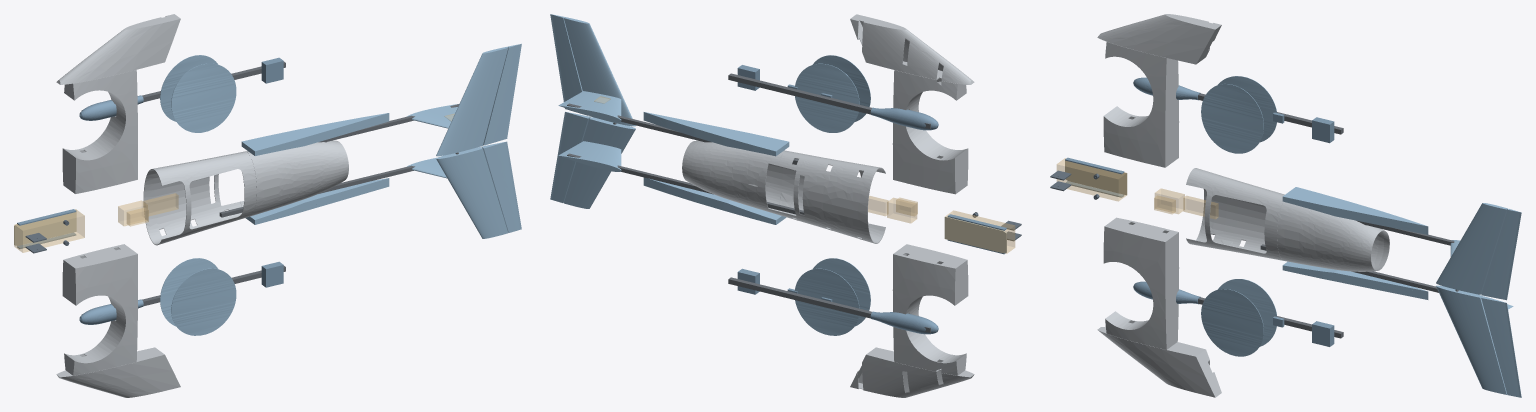
The model's file is v19r_recommended.glb.
The picture shows the model from 3 angles, left to right: view 1: azimuth 30°, elevation 25°; view 2: azimuth 150°, elevation 25°; view 3: azimuth 330°, elevation 25°; orthographic projection.
Visible parts, largest first — view 1: F3_hollow_body, WLB_hollow_wing, WRB_hollow_wing, F4_hollow_body, WRE1_falcon_wing, NEW_front_well_cap_upper_R, NEW_tail_stab_R, NEW_tail_stab_L, NEW_front_well_cap_upper_L, WLE1_falcon_wing, NEW_F5_root_fairing_R, NEW_tail_elevator_L (+16 smaller); view 2: WLB_hollow_wing, F3_hollow_body, F4_hollow_body, WRB_hollow_wing, WRE1_falcon_wing, WLE1_falcon_wing, NEW_front_well_cap_lower_R, NEW_front_well_cap_lower_L, NEW_tail_stab_R, NEW_tail_stab_L, NEW_F5_root_fairing_R, NEW_F5_root_fairing_L (+15 smaller); view 3: WLB_hollow_wing, F3_hollow_body, WRB_hollow_wing, F4_hollow_body, WRE1_falcon_wing, NEW_front_well_cap_upper_R, NEW_tail_stab_R, WLE1_falcon_wing, NEW_tail_stab_L, NEW_front_well_cap_upper_L, NEW_F5_root_fairing_R, NEW_tail_elevator_L (+15 smaller).
Part boxes in pixels (<box>): F3_hollow_body: <box>143,151,256,245</box>; WLB_hollow_wing: <box>62,244,137,375</box>; WRB_hollow_wing: <box>62,70,137,193</box>; F4_hollow_body: <box>240,140,348,215</box>; WRE1_falcon_wing: <box>56,14,180,84</box>; NEW_front_well_cap_upper_R: <box>171,63,236,132</box>; NEW_tail_stab_R: <box>436,47,508,156</box>; NEW_tail_stab_L: <box>436,147,507,238</box>; NEW_front_well_cap_upper_L: <box>171,268,236,335</box>; WLE1_falcon_wing: <box>56,347,180,397</box>; NEW_F5_root_fairing_R: <box>241,113,389,155</box>; NEW_tail_elevator_L: <box>481,141,521,232</box>; WLB_hollow_wing: <box>892,244,968,375</box>; F3_hollow_body: <box>778,151,885,243</box>; F4_hollow_body: <box>682,140,794,215</box>; WRB_hollow_wing: <box>892,70,968,194</box>; WRE1_falcon_wing: <box>850,14,974,84</box>; WLE1_falcon_wing: <box>850,347,974,397</box>; NEW_front_well_cap_lower_R: <box>795,63,859,132</box>; NEW_front_well_cap_lower_L: <box>794,268,859,335</box>; NEW_tail_stab_R: <box>564,17,635,126</box>; NEW_tail_stab_L: <box>564,117,635,208</box>; NEW_F5_root_fairing_R: <box>643,112,789,156</box>; NEW_F5_root_fairing_L: <box>643,177,786,224</box>; WLB_hollow_wing: <box>1103,217,1179,349</box>; F3_hollow_body: <box>1186,168,1284,260</box>; WRB_hollow_wing: <box>1103,42,1179,167</box>; F4_hollow_body: <box>1277,201,1389,271</box>; WRE1_falcon_wing: <box>1097,14,1221,64</box>; NEW_front_well_cap_upper_R: <box>1201,84,1263,153</box>; NEW_tail_stab_R: <box>1436,203,1507,294</box>; WLE1_falcon_wing: <box>1097,327,1221,397</box>; NEW_tail_stab_L: <box>1436,285,1507,394</box>; NEW_front_well_cap_upper_L: <box>1201,289,1263,356</box>; NEW_F5_root_fairing_R: <box>1282,187,1428,234</box>; NEW_tail_elevator_L: <box>1481,296,1521,397</box>.
Size of the model in its own units: 1088 by 794 by 128.
